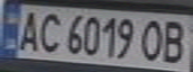0: (81, 12, 103, 56)
1: (100, 14, 121, 58)
6: (60, 11, 84, 55)
9: (115, 15, 139, 60)
A: (15, 8, 45, 53)
B: (157, 17, 193, 65)
C: (33, 9, 63, 54)
O: (136, 16, 172, 62)
